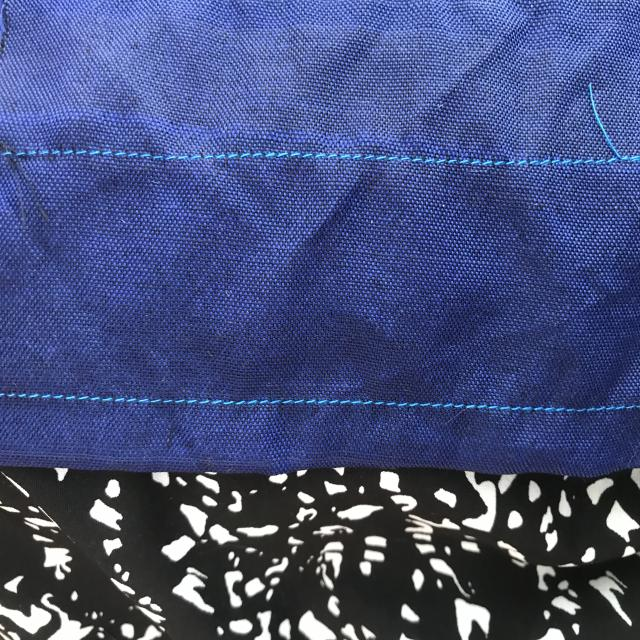good: (132, 388, 346, 422), (360, 392, 561, 426), (303, 144, 472, 177), (47, 145, 191, 170), (14, 383, 113, 419)
